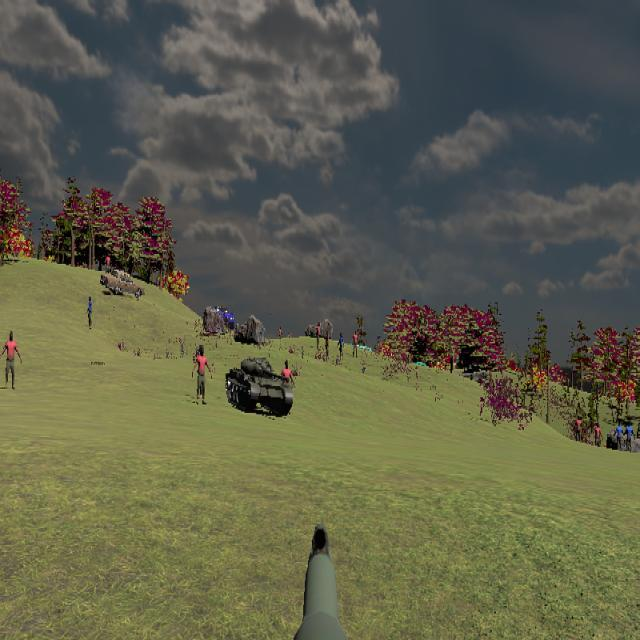Human: (0, 331, 22, 389), (192, 346, 212, 405)
Tank: (224, 357, 295, 417)
car: (100, 269, 144, 300)
